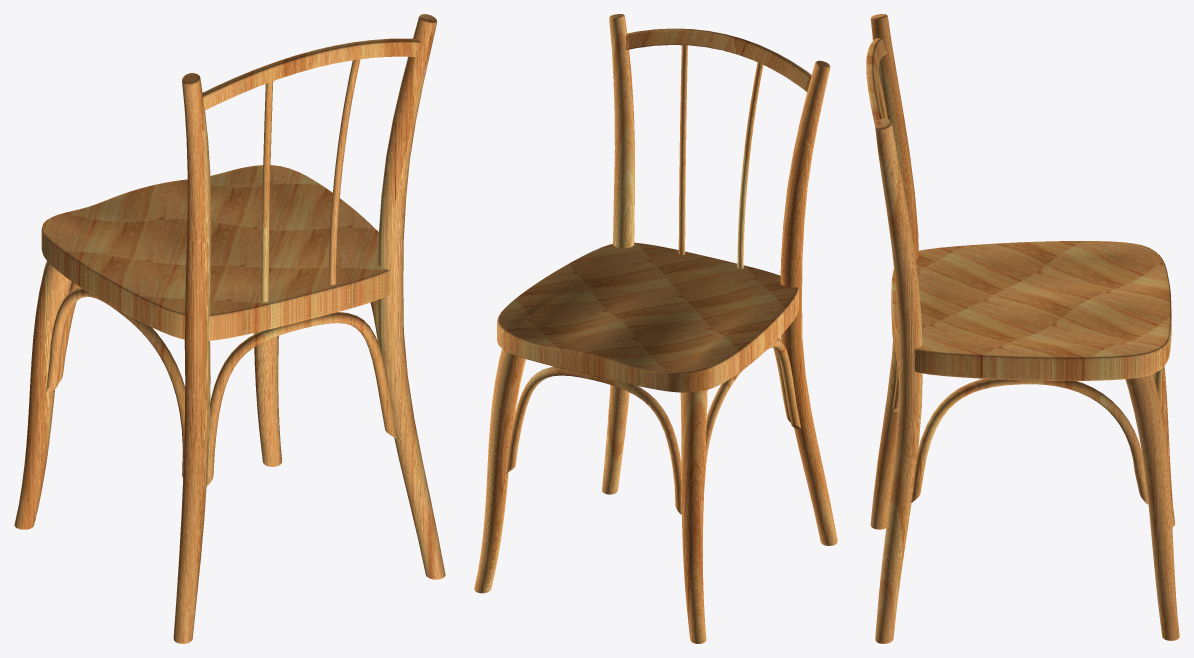
The model's file is chair.obj.
3 views of the same model, side by side, from view 1: azimuth 30°, elevation 25°; view 2: azimuth 150°, elevation 25°; view 3: azimuth 270°, elevation 25° (orthographic). The views are drawn at different scales.
Parts seen in each view (by area): view 1: default; view 2: default; view 3: default.
Boxes of the visible parts, bbox=[...] form: default: bbox=[14, 14, 445, 643]; default: bbox=[474, 14, 837, 643]; default: bbox=[866, 14, 1179, 643].
Size of the model in its own units: 28.16 by 55.19 by 30.39.
